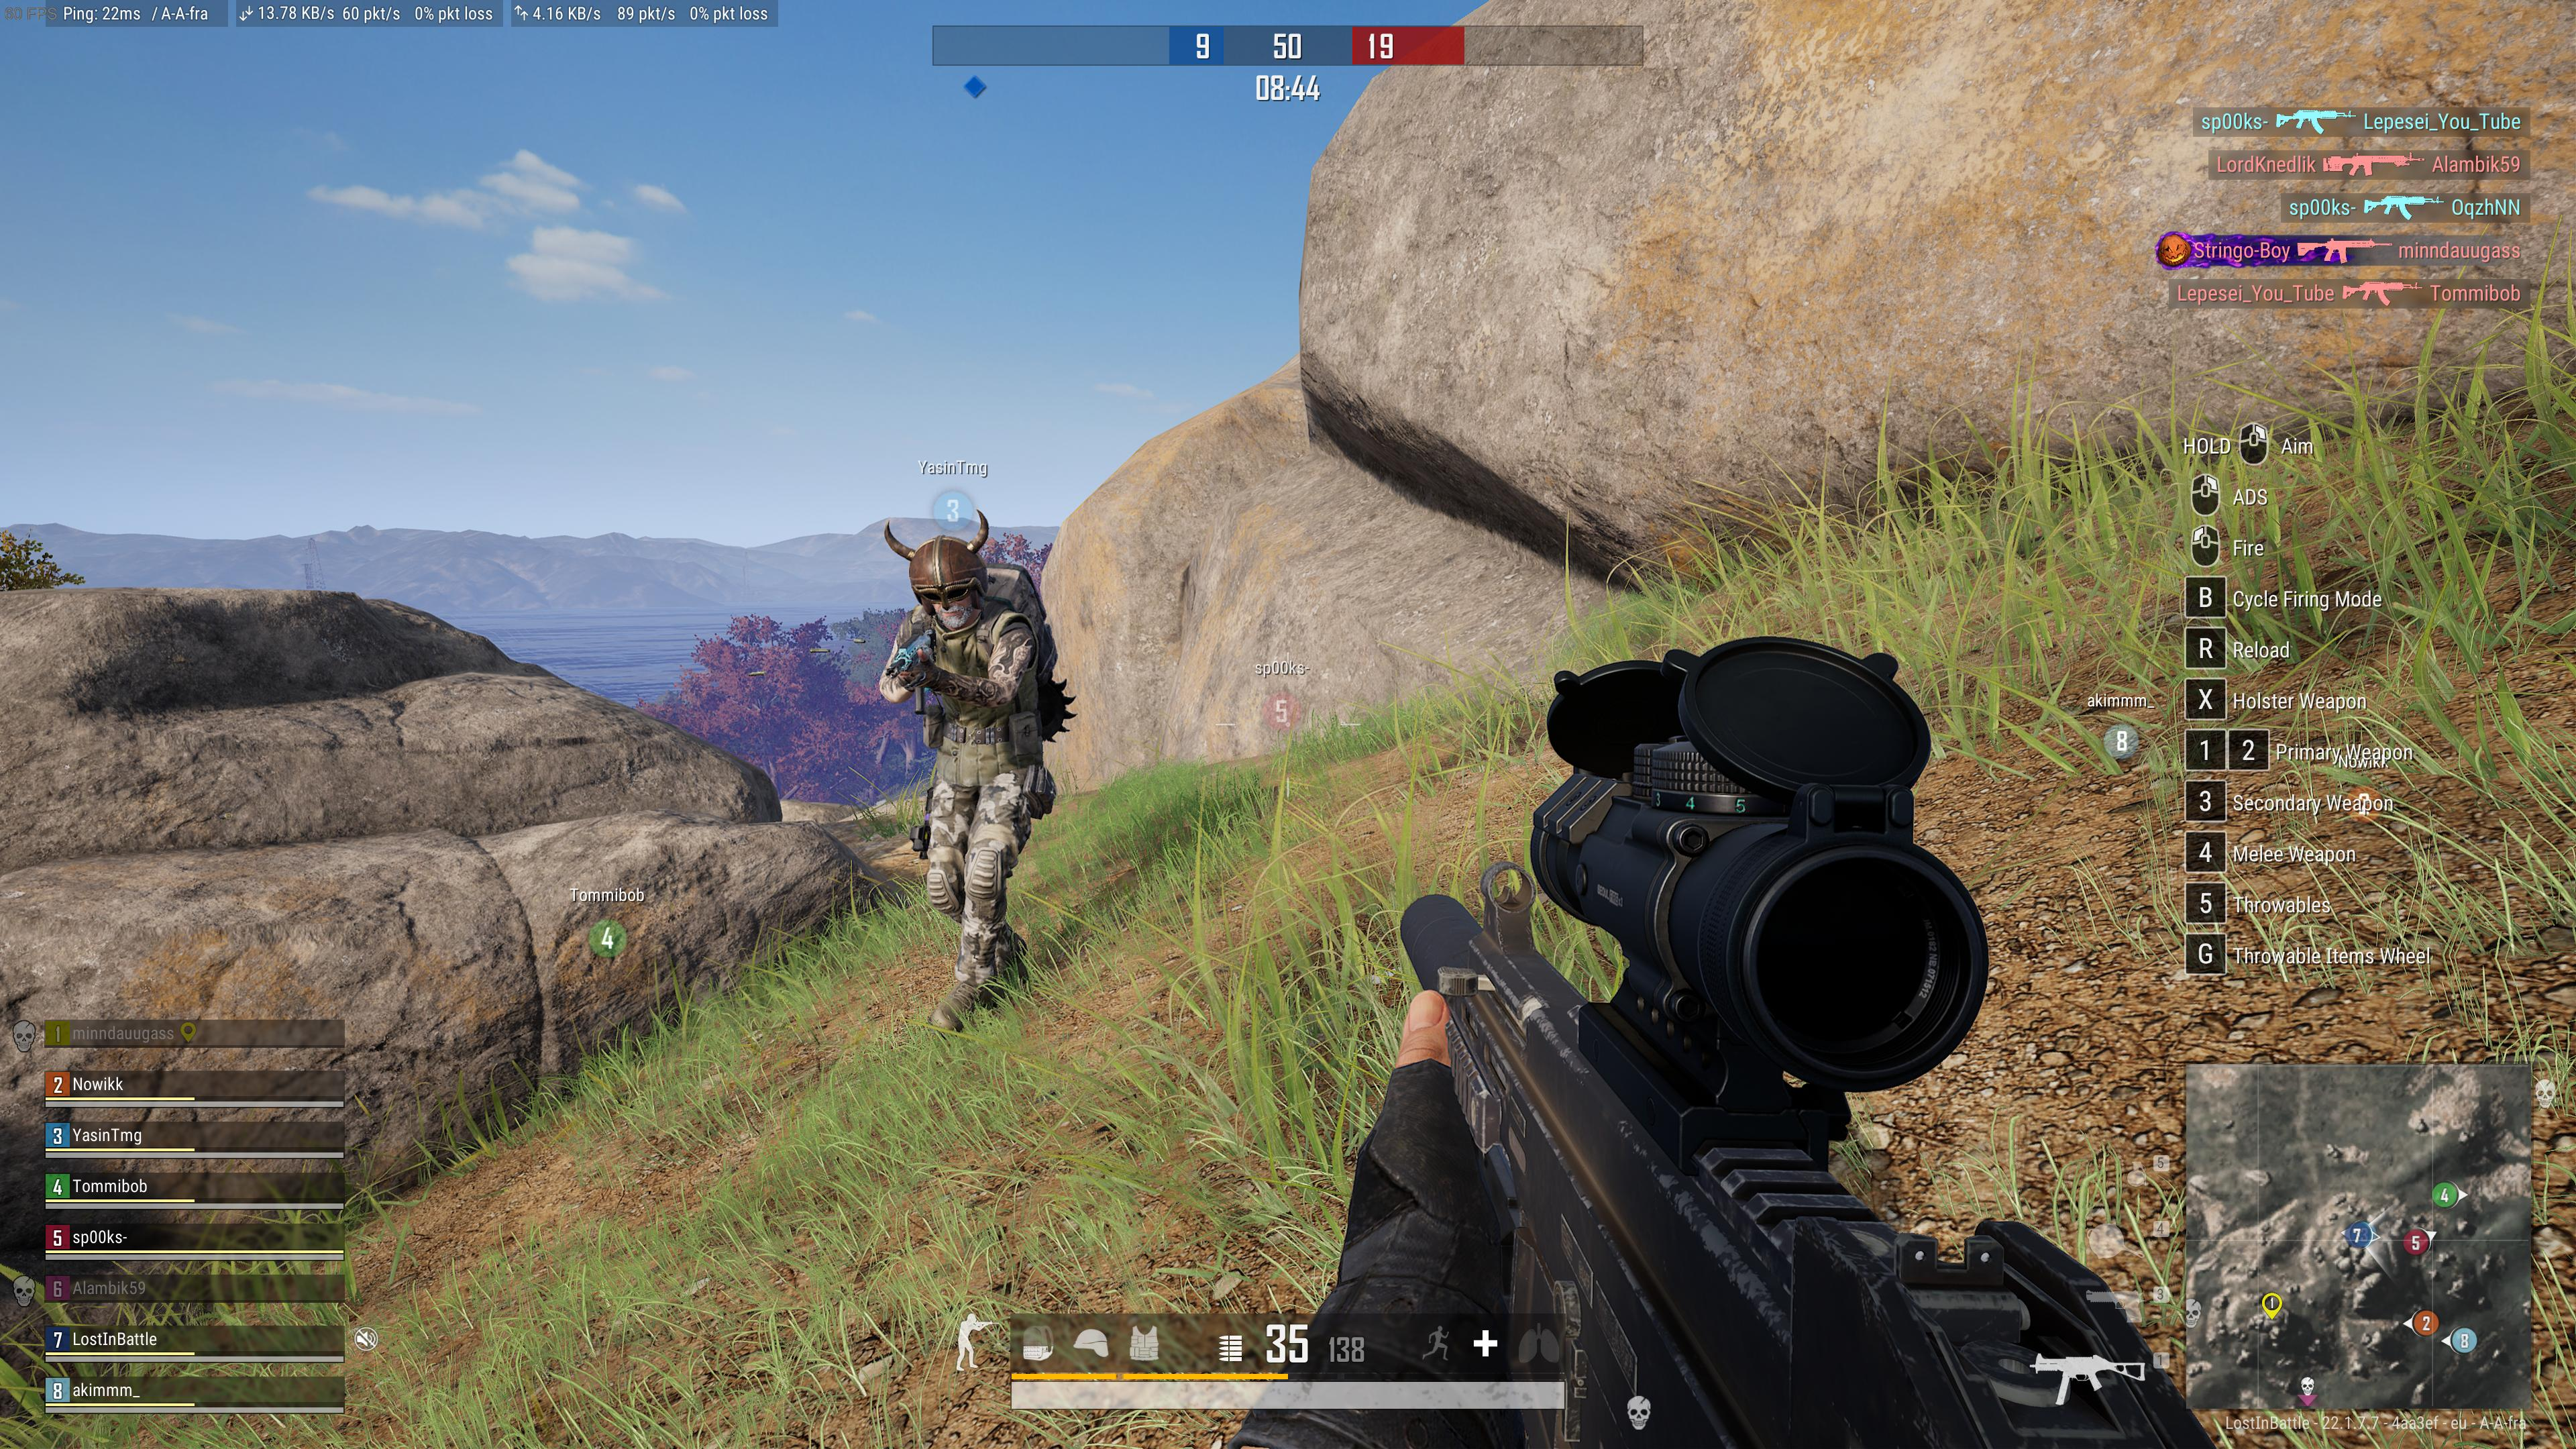friendly: (872, 508, 1069, 1035)
